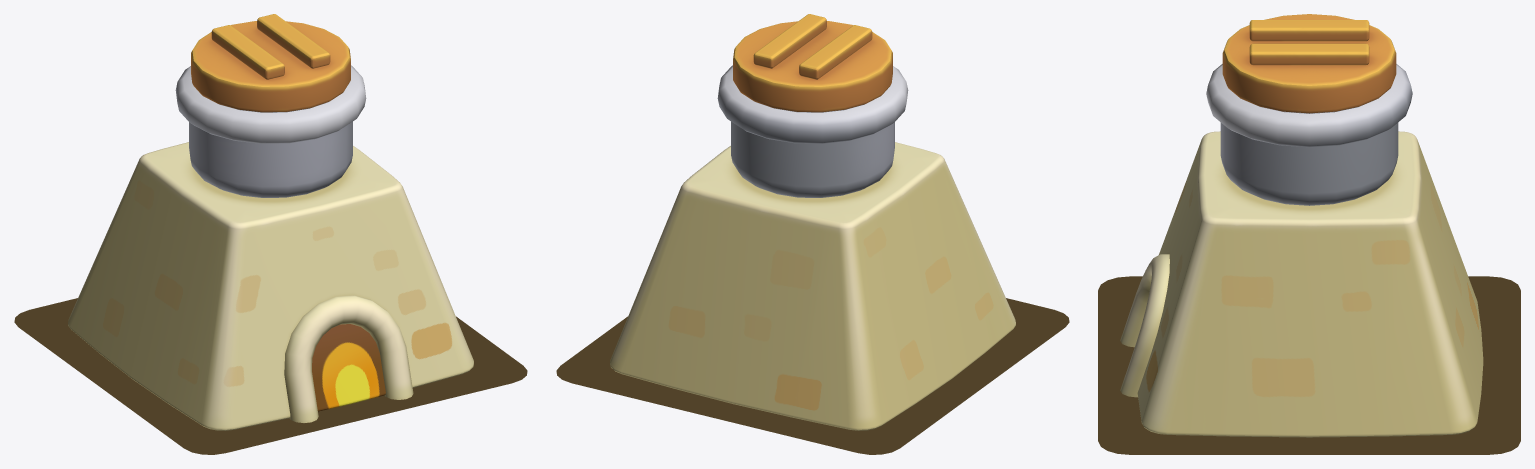
Rendered from E_Firepot.fbx.
3 renders of one model, left to right at view 1: azimuth 30°, elevation 25°; view 2: azimuth 150°, elevation 25°; view 3: azimuth 270°, elevation 25°, orthographic. The views are drawn at different scales.
Parts seen in each view (by area): view 1: E_firepot_pCube50, E_firepot_pCylinder51, pCube58; view 2: E_firepot_pCube50, E_firepot_pCylinder51, pCube58; view 3: E_firepot_pCube50, E_firepot_pCylinder51, pCube58.
Part boxes in pixels (x1=…): E_firepot_pCube50: x1=68, y1=142, x2=473, y2=430; E_firepot_pCylinder51: x1=175, y1=14, x2=366, y2=197; pCube58: x1=14, y1=298, x2=527, y2=454; E_firepot_pCube50: x1=610, y1=142, x2=1015, y2=430; E_firepot_pCylinder51: x1=717, y1=14, x2=908, y2=197; pCube58: x1=556, y1=298, x2=1069, y2=454; E_firepot_pCube50: x1=1120, y1=131, x2=1483, y2=437; E_firepot_pCylinder51: x1=1206, y1=14, x2=1412, y2=205; pCube58: x1=1098, y1=276, x2=1520, y2=454.
Size of the model in its own units: 201 by 178 by 201.
